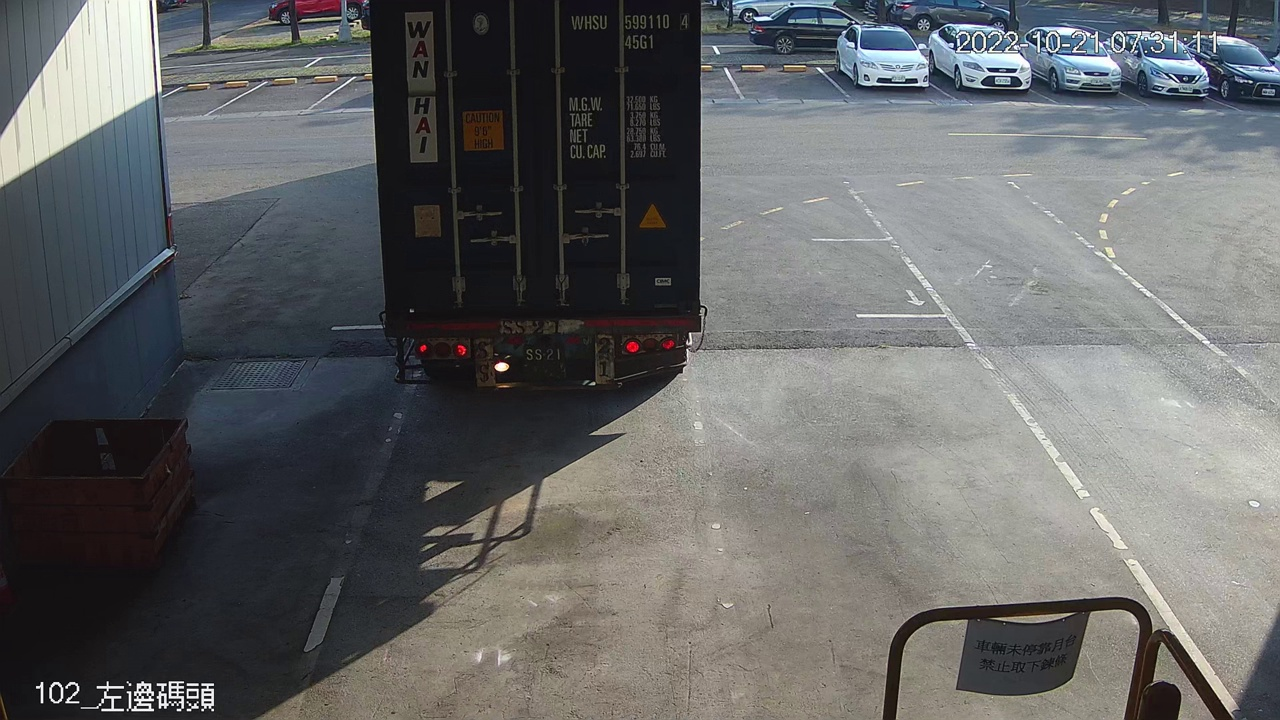container: (564, 5, 695, 54)
